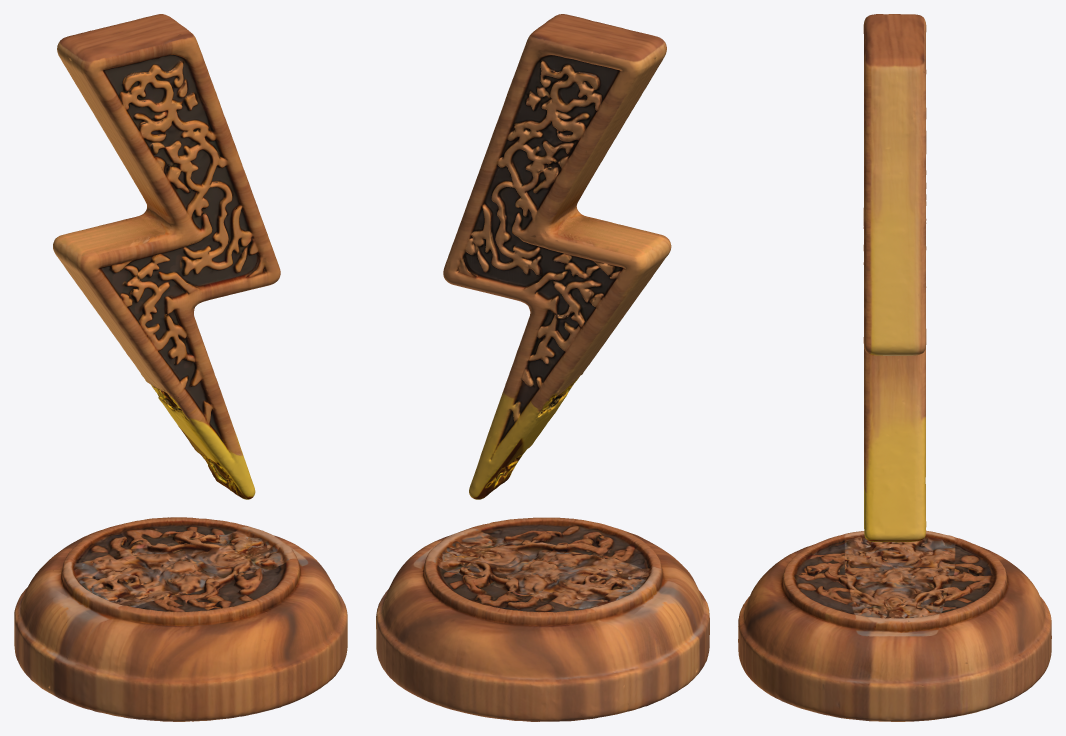
File: speed-demon.glb
The picture shows the model from 3 angles, left to right: view 1: azimuth 30°, elevation 25°; view 2: azimuth 150°, elevation 25°; view 3: azimuth 270°, elevation 25°; orthographic projection. The views are drawn at different scales.
Bounding box in the file's own units: 0.907 × 1.9 × 0.9068.
1 material, 1 textured.
